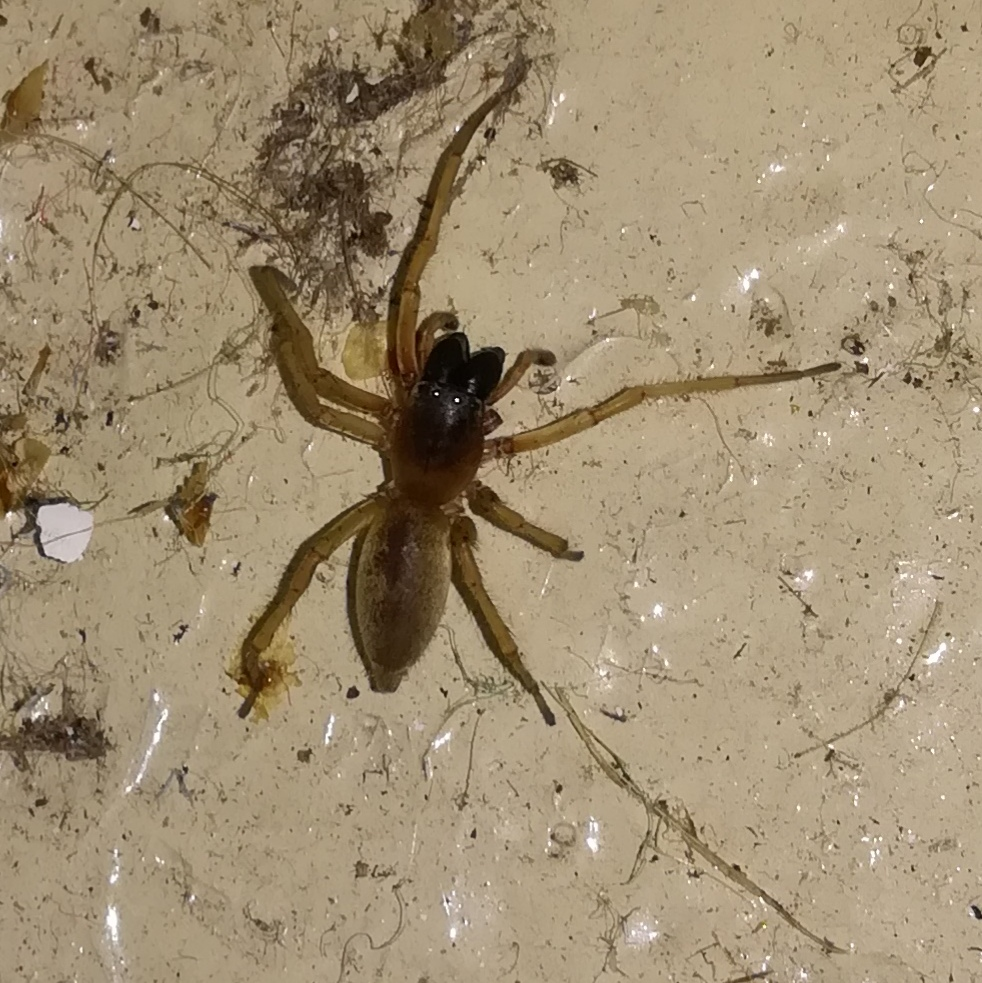spider: (206, 36, 863, 722)
